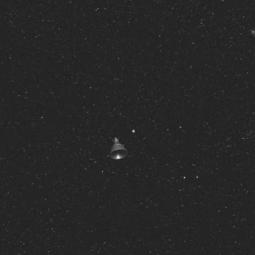debris: (102, 130, 132, 163)
